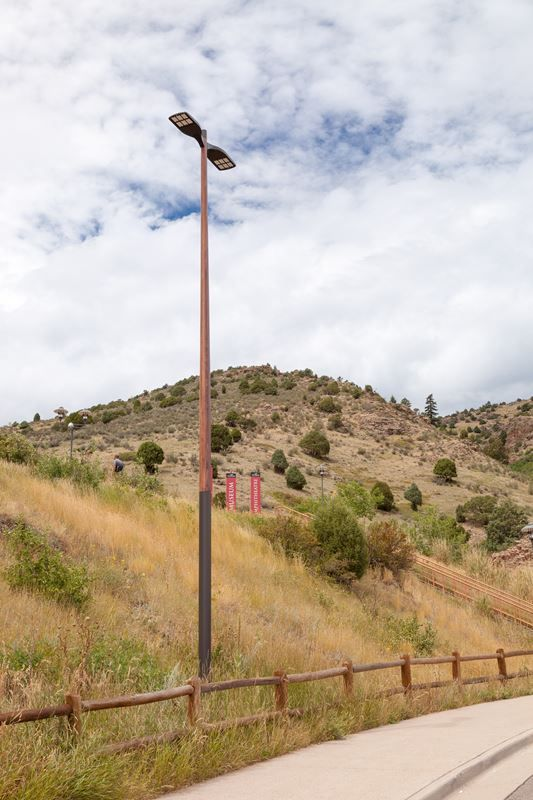light_pole: (179, 134, 225, 692)
